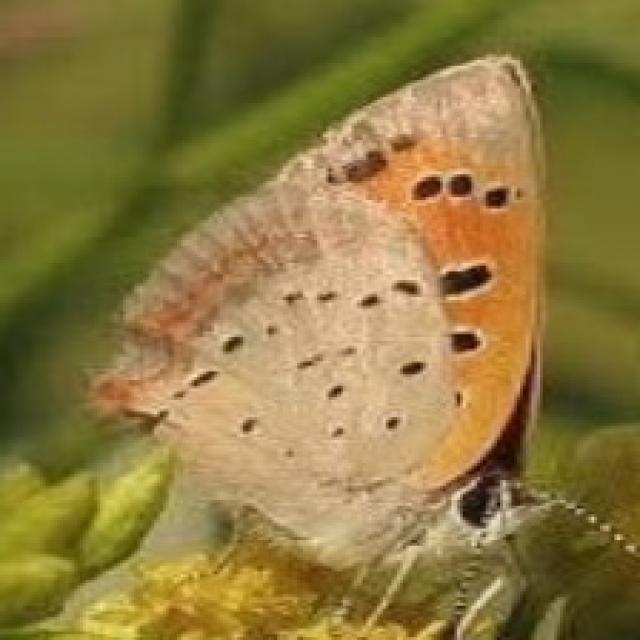butterfly: (79, 57, 640, 639)
